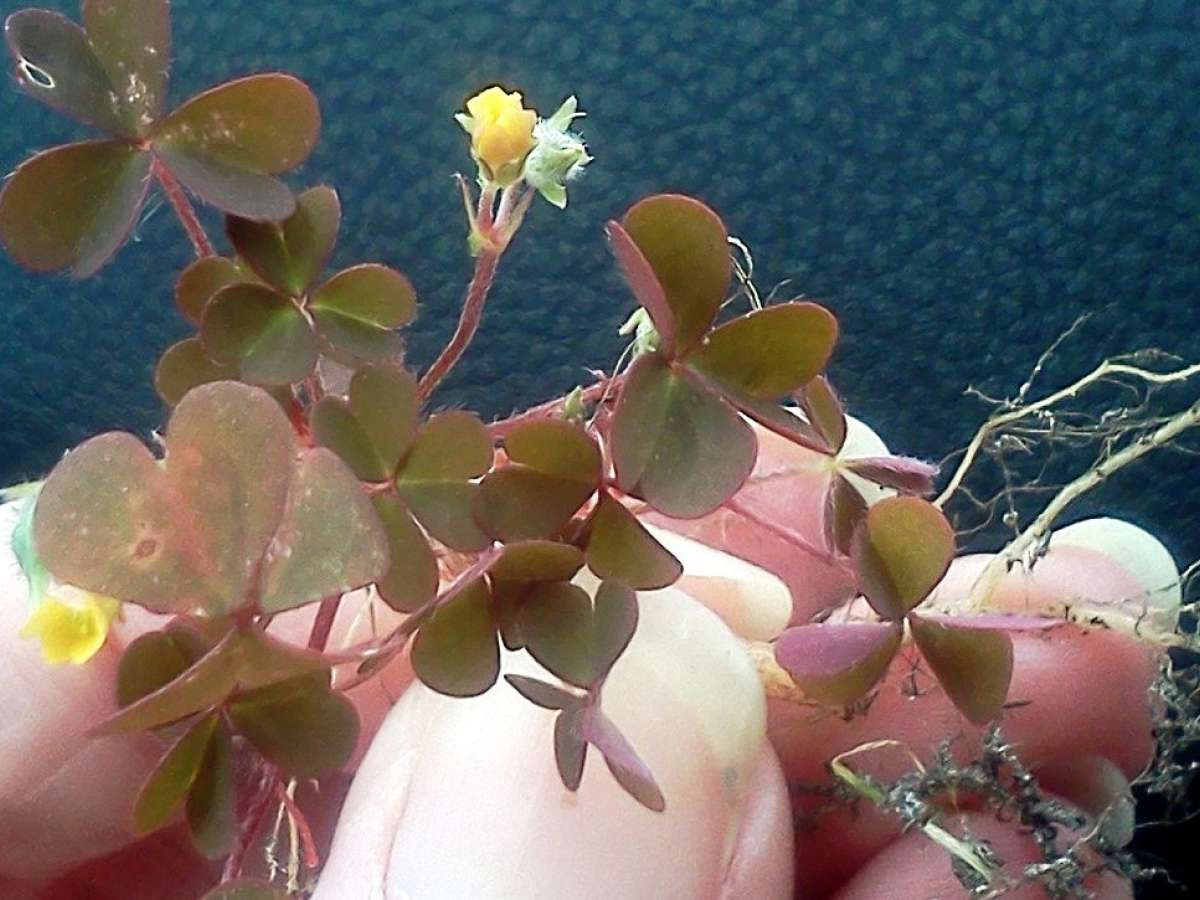oxalis: (51, 62, 766, 670)
